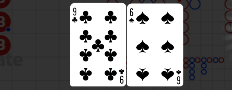4C: (117, 67, 125, 84)
6C: (175, 68, 182, 85)
